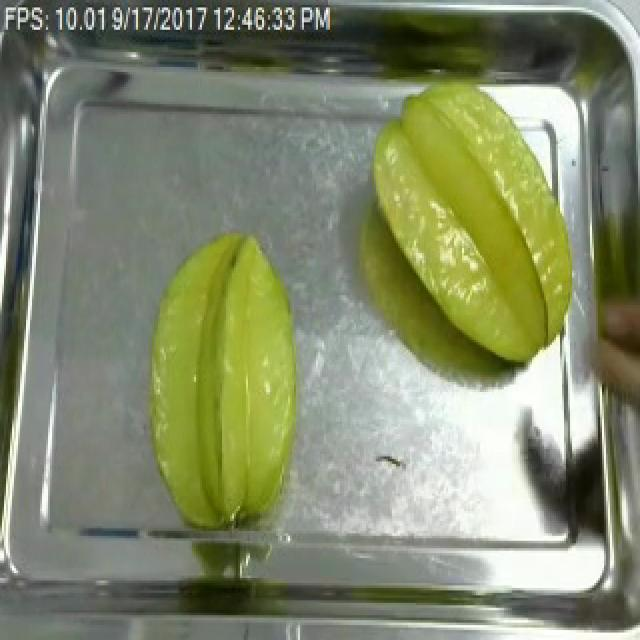fruit: (358, 70, 584, 380), (134, 221, 314, 541)
